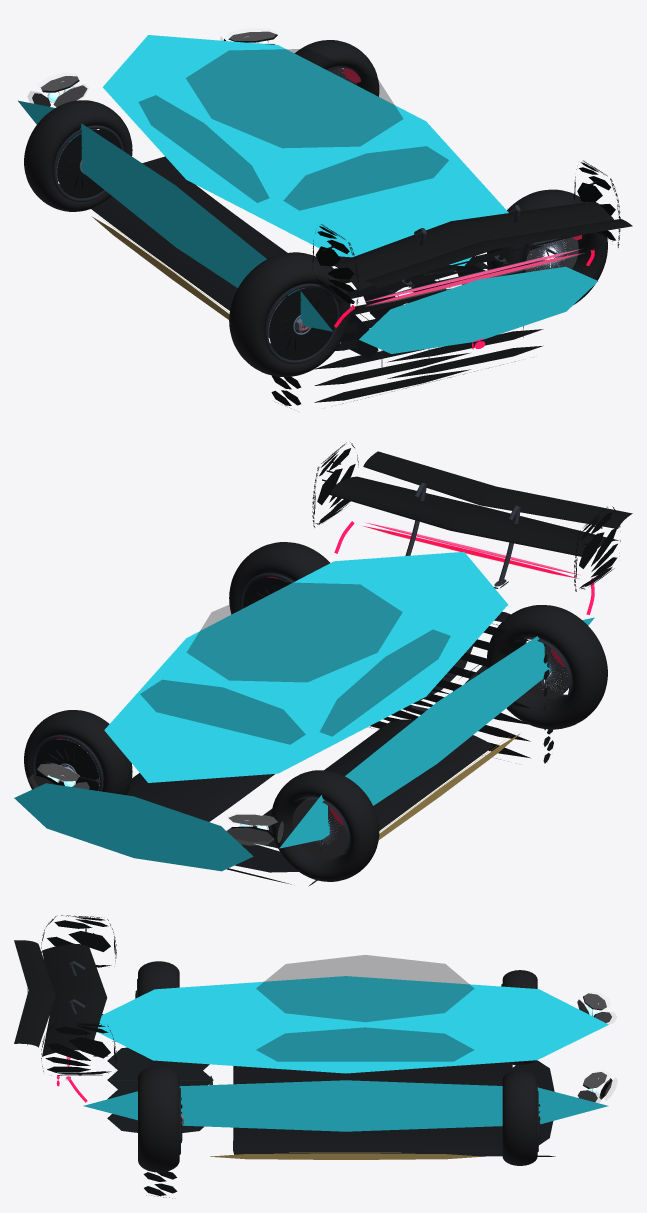
Rendered from vehicle_apex_hyper_gt_stradale.glb.
The picture shows the model from 3 angles, top to bottom: view 1: azimuth 30°, elevation 25°; view 2: azimuth 150°, elevation 25°; view 3: azimuth 270°, elevation 25°; orthographic projection. The views are drawn at different scales.
Visible parts, largest first — view 1: APEX_HYPER_GT_STRADALE, ACTIVE_VENTURI_UNDERBODY_FLOOR, ACTIVE_GURNEY_FLAP_LIP, MICHELIN_CUP_2R_TRACK_TIRE.002, MICHELIN_CUP_2R_TRACK_TIRE, FRONT_MATRIX_HEADLIGHT_CLUSTER, AERO_TURBOFAN_COVER.002, MICHELIN_CUP_2R_TRACK_TIRE.003, AERODYNAMIC_ENDPLATE_ASSEMBLY, MICHELIN_CUP_2R_TRACK_TIRE.001, AERO_TURBOFAN_COVER, REAR_OLED_LIGHT_BLADE_ASSEMBLY (+5 smaller); view 2: APEX_HYPER_GT_STRADALE, ACTIVE_GURNEY_FLAP_LIP, ACTIVE_VENTURI_UNDERBODY_FLOOR, MICHELIN_CUP_2R_TRACK_TIRE.002, MICHELIN_CUP_2R_TRACK_TIRE, MICHELIN_CUP_2R_TRACK_TIRE.001, FRONT_MATRIX_HEADLIGHT_CLUSTER, MICHELIN_CUP_2R_TRACK_TIRE.003, AERODYNAMIC_ENDPLATE_ASSEMBLY, AERO_TURBOFAN_COVER.001, REAR_OLED_LIGHT_BLADE_ASSEMBLY, FLOATING_CSIC_BRAKE_ROTOR (+5 smaller); view 3: APEX_HYPER_GT_STRADALE, ACTIVE_VENTURI_UNDERBODY_FLOOR, ACTIVE_GURNEY_FLAP_LIP, MICHELIN_CUP_2R_TRACK_TIRE.003, MICHELIN_CUP_2R_TRACK_TIRE.001, AERODYNAMIC_ENDPLATE_ASSEMBLY, DIFFUSER_STRAKE_1, SEALING_SKIRT_LEFT, FRONT_MATRIX_HEADLIGHT_CLUSTER, MICHELIN_CUP_2R_TRACK_TIRE.002, MICHELIN_CUP_2R_TRACK_TIRE.
Boxes of the visible parts, <box> form: APEX_HYPER_GT_STRADALE: <box>18,35,598,353</box>; ACTIVE_VENTURI_UNDERBODY_FLOOR: <box>91,156,543,408</box>; ACTIVE_GURNEY_FLAP_LIP: <box>334,201,632,290</box>; MICHELIN_CUP_2R_TRACK_TIRE.002: <box>229,252,350,376</box>; MICHELIN_CUP_2R_TRACK_TIRE: <box>24,100,132,211</box>; FRONT_MATRIX_HEADLIGHT_CLUSTER: <box>27,28,582,310</box>; AERO_TURBOFAN_COVER.002: <box>269,288,335,360</box>; MICHELIN_CUP_2R_TRACK_TIRE.003: <box>487,189,607,304</box>; AERODYNAMIC_ENDPLATE_ASSEMBLY: <box>312,160,620,311</box>; MICHELIN_CUP_2R_TRACK_TIRE.001: <box>295,40,379,96</box>; AERO_TURBOFAN_COVER: <box>57,129,119,198</box>; REAR_OLED_LIGHT_BLADE_ASSEMBLY: <box>334,249,594,349</box>; APEX_HYPER_GT_STRADALE: <box>14,552,594,871</box>; ACTIVE_GURNEY_FLAP_LIP: <box>329,451,632,556</box>; ACTIVE_VENTURI_UNDERBODY_FLOOR: <box>127,577,553,886</box>; MICHELIN_CUP_2R_TRACK_TIRE.002: <box>487,605,607,729</box>; MICHELIN_CUP_2R_TRACK_TIRE: <box>271,770,379,881</box>; MICHELIN_CUP_2R_TRACK_TIRE.001: <box>24,710,132,795</box>; FRONT_MATRIX_HEADLIGHT_CLUSTER: <box>28,522,595,845</box>; MICHELIN_CUP_2R_TRACK_TIRE.003: <box>229,542,329,614</box>; AERODYNAMIC_ENDPLATE_ASSEMBLY: <box>312,442,620,591</box>; AERO_TURBOFAN_COVER.001: <box>35,739,98,790</box>; REAR_OLED_LIGHT_BLADE_ASSEMBLY: <box>334,521,594,614</box>; FLOATING_CSIC_BRAKE_ROTOR: <box>292,798,347,859</box>; APEX_HYPER_GT_STRADALE: <box>83,955,608,1131</box>; ACTIVE_VENTURI_UNDERBODY_FLOOR: <box>142,992,555,1198</box>; ACTIVE_GURNEY_FLAP_LIP: <box>14,940,107,1056</box>; MICHELIN_CUP_2R_TRACK_TIRE.003: <box>138,1066,179,1172</box>; MICHELIN_CUP_2R_TRACK_TIRE.001: <box>502,1070,537,1165</box>; AERODYNAMIC_ENDPLATE_ASSEMBLY: <box>41,915,116,1075</box>; DIFFUSER_STRAKE_1: <box>107,1041,213,1132</box>; SEALING_SKIRT_LEFT: <box>210,1152,481,1159</box>; FRONT_MATRIX_HEADLIGHT_CLUSTER: <box>65,992,617,1102</box>; MICHELIN_CUP_2R_TRACK_TIRE.002: <box>138,961,179,997</box>; MICHELIN_CUP_2R_TRACK_TIRE: <box>502,970,537,1065</box>.
Bounding box in the file's own units: 2.75 × 1.5 × 4.8.
